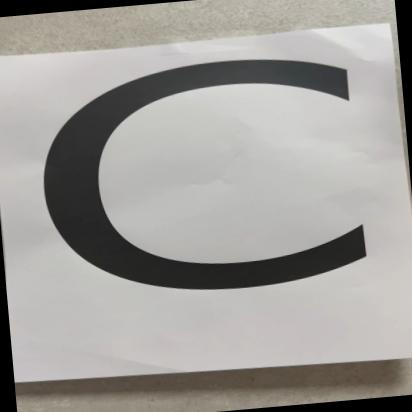seat: (0, 20, 412, 385)
